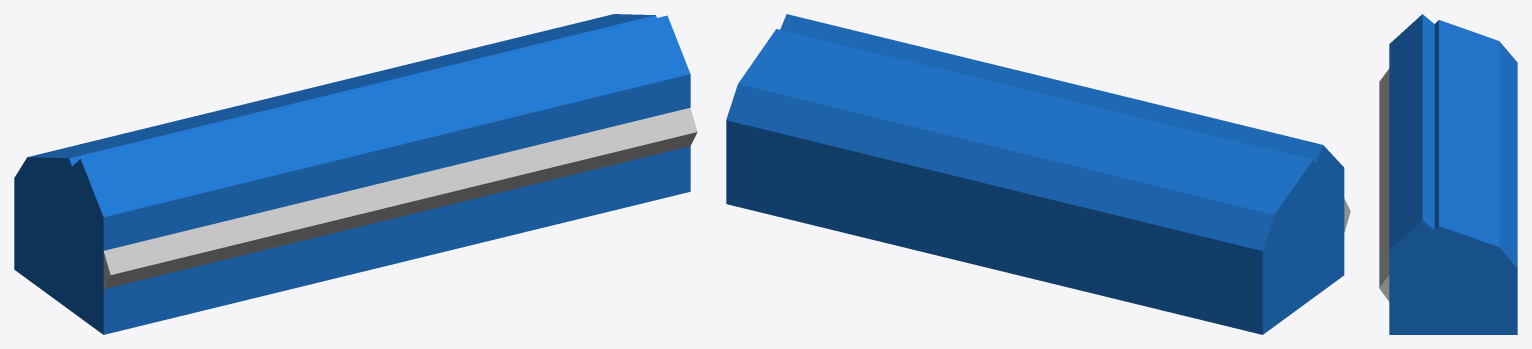
The model's file is SM_roof_edge1.fbx.
3 renders of one model, left to right at view 1: azimuth 30°, elevation 25°; view 2: azimuth 150°, elevation 25°; view 3: azimuth 270°, elevation 25°, orthographic. The views are drawn at different scales.
Visible parts, largest first — view 1: roof_edge1; view 2: roof_edge1; view 3: roof_edge1.
Boxes of the visible parts, x1=… form: roof_edge1: x1=14, y1=14, x2=697, y2=334; roof_edge1: x1=726, y1=14, x2=1350, y2=334; roof_edge1: x1=1379, y1=14, x2=1517, y2=334.
Size of the model in its own units: 100 by 25.96 by 28.42.
